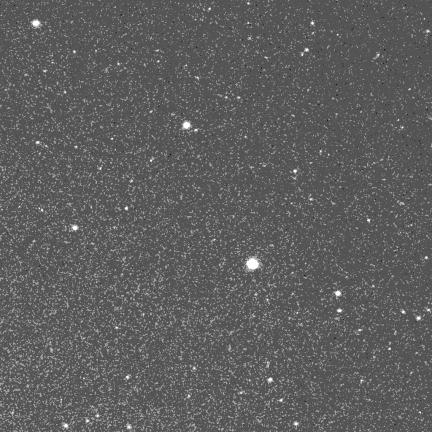blob: (247, 258, 259, 269), (183, 122, 190, 129), (33, 20, 40, 26), (268, 378, 274, 384), (335, 291, 341, 296), (72, 225, 78, 230), (63, 423, 68, 428), (337, 308, 342, 313), (279, 399, 284, 403), (416, 316, 421, 320), (86, 419, 90, 424), (127, 424, 131, 429), (73, 50, 77, 54), (388, 347, 392, 351), (294, 422, 298, 426), (305, 48, 309, 51), (36, 141, 40, 144), (125, 206, 128, 210), (402, 310, 405, 314), (96, 414, 99, 418), (293, 170, 297, 173), (187, 395, 190, 398), (311, 22, 314, 25), (126, 376, 129, 379), (425, 256, 428, 259), (427, 308, 430, 311)
